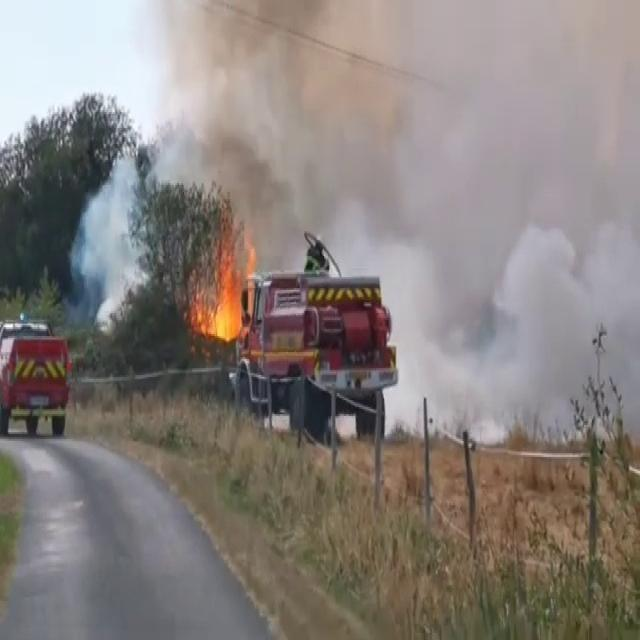Fire: (189, 234, 257, 348)
Smoke: (160, 0, 640, 260), (375, 1, 640, 452), (69, 138, 163, 326)
